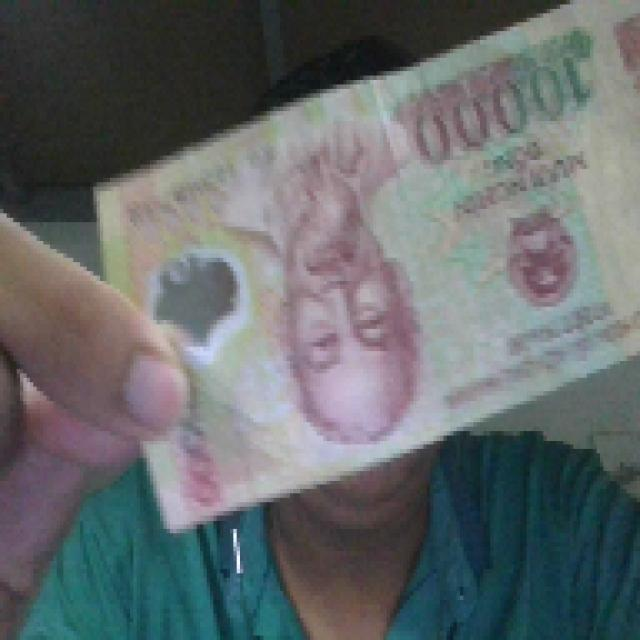10 000 VND: (90, 0, 636, 533)
